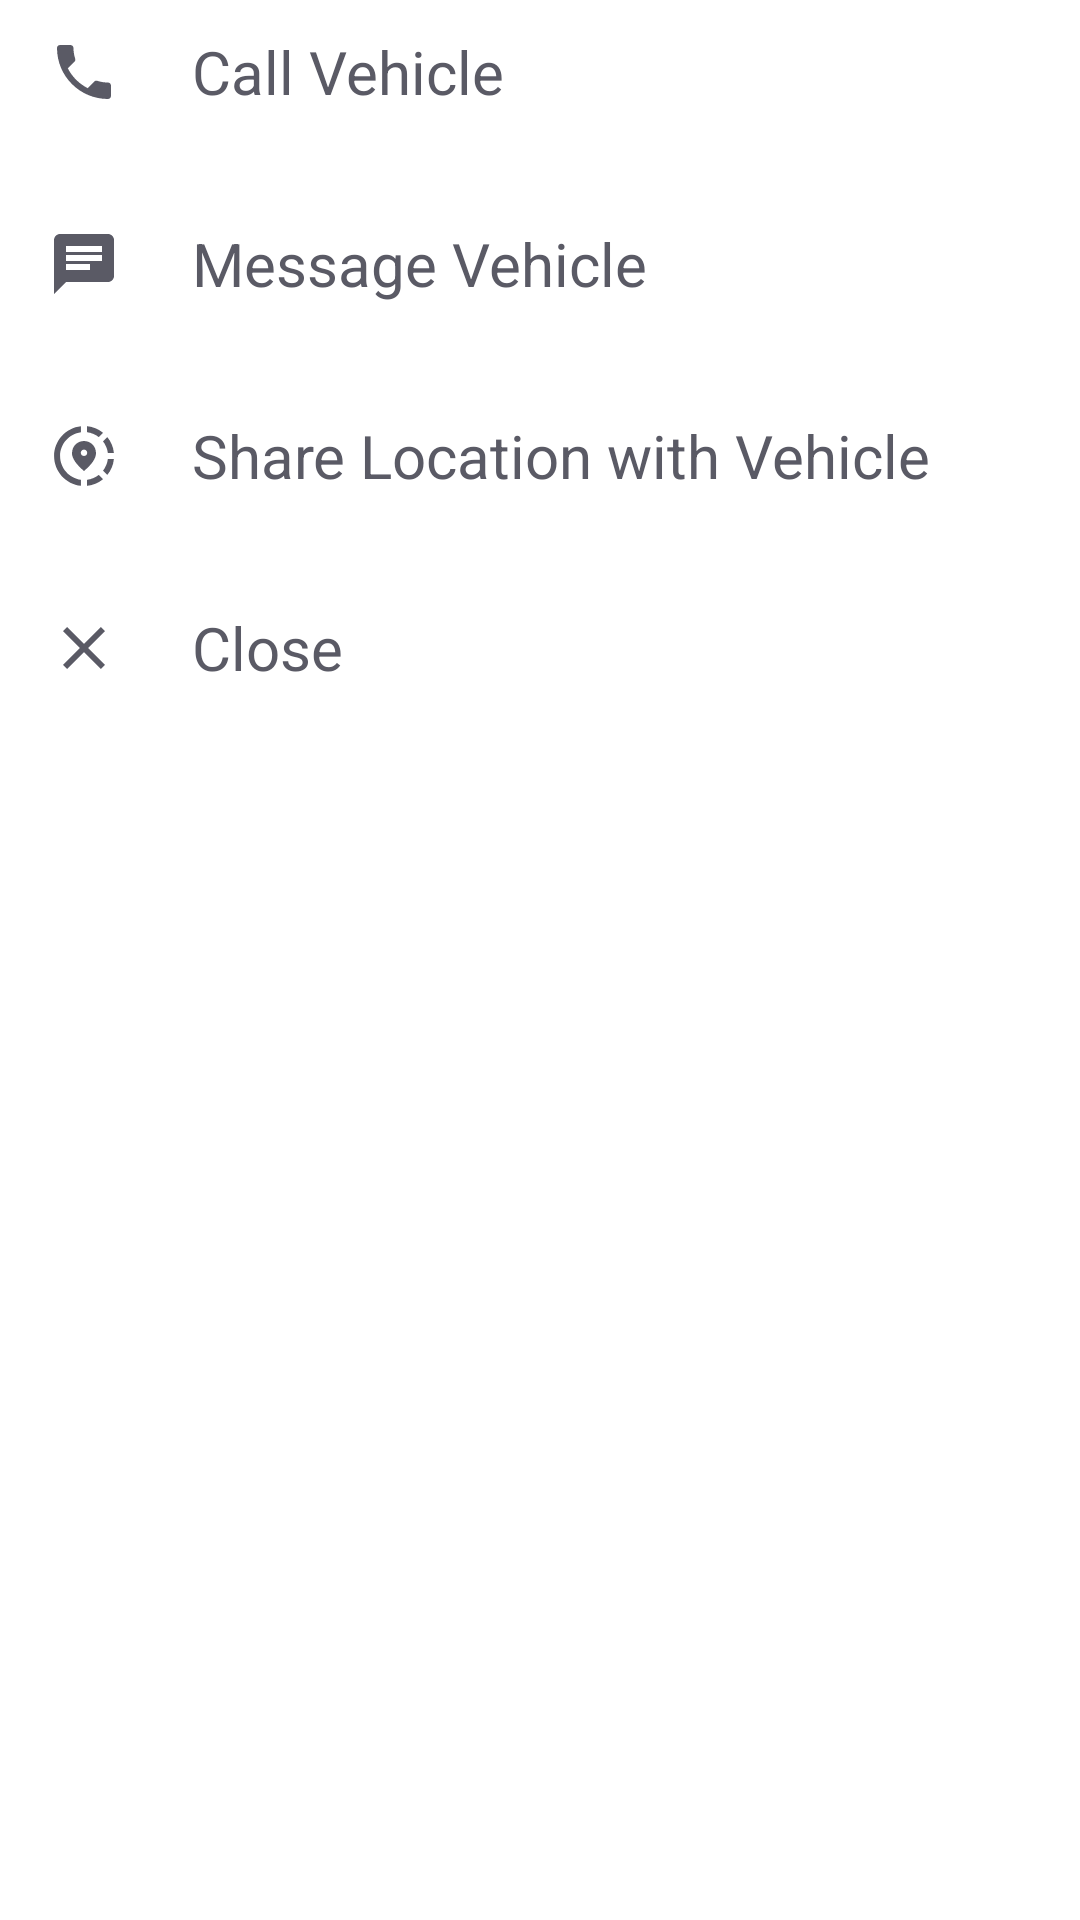

Point at icon controls on the screen. Image size 1080×1920, points as (x,y).
chat: (84,264)
phone: (84,72)
